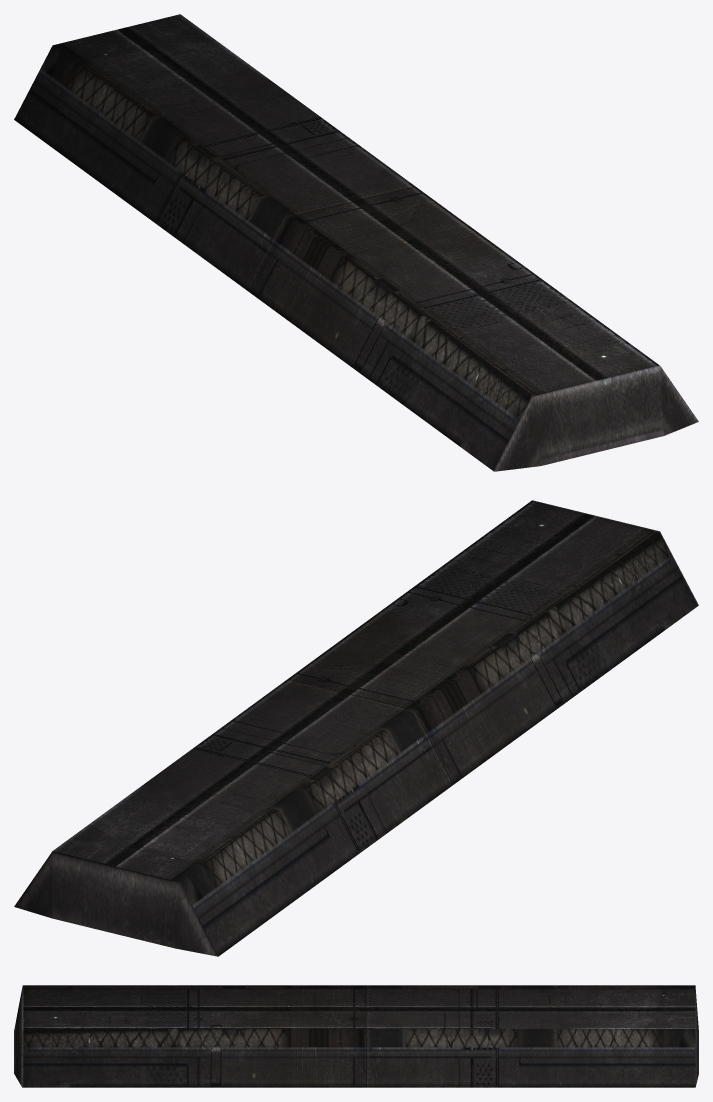
Rendered from Wall_H_DarkPatch 02.fbx.
3 views of the same model, one above another, from view 1: azimuth 30°, elevation 25°; view 2: azimuth 150°, elevation 25°; view 3: azimuth 270°, elevation 25° (orthographic). The views are drawn at different scales.
Parts seen in each view (by area): view 1: Wall_H_DarkPatch 02; view 2: Wall_H_DarkPatch 02; view 3: Wall_H_DarkPatch 02.
Boxes of the visible parts, bbox=[...] form: Wall_H_DarkPatch 02: bbox=[14, 14, 698, 471]; Wall_H_DarkPatch 02: bbox=[14, 500, 698, 956]; Wall_H_DarkPatch 02: bbox=[14, 985, 698, 1087].
Bounding box in the file's own units: 158 × 47.84 × 651.
